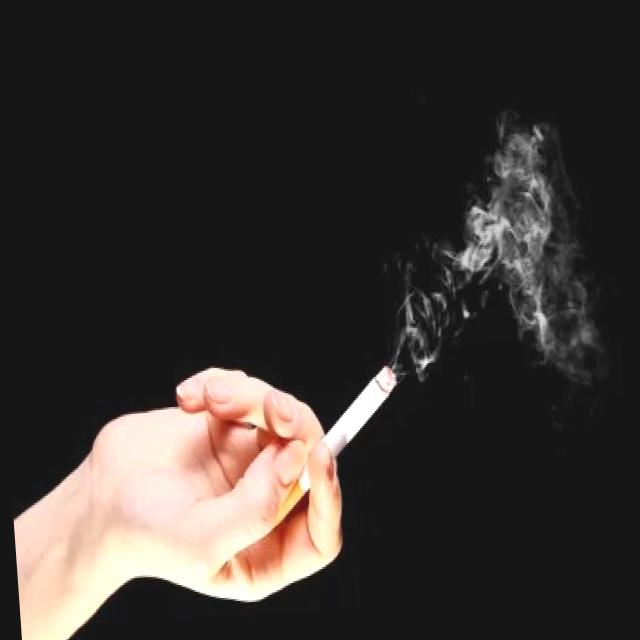smoke: (256, 362, 409, 524)
